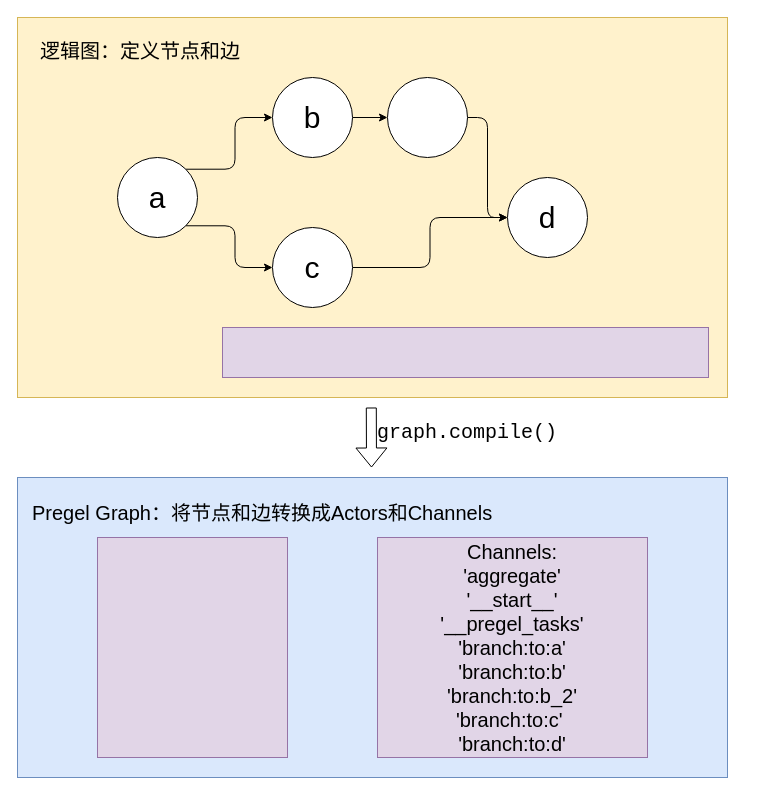
This 770x795 diagram has some shape labels left out. The shapes that lost their labels are listed below. From the top down, each one's centre as x and y in pixels, then its label:
At pixel 427 117: "b_2".
At pixel 465 352: "class State(TypedDict): aggregate: Annotated[ list , operator.add]".
At pixel 192 647: "Actors: PregelNode '__start__' 'a' 'b' 'b_2' 'c', 'd'".
